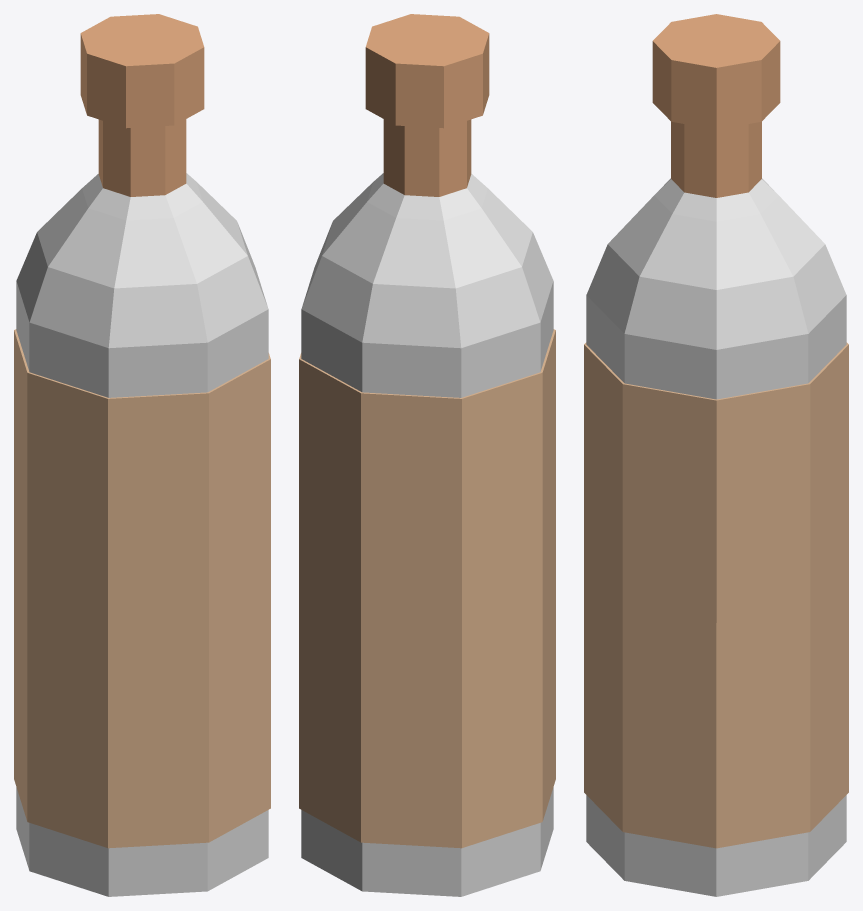
Rendered from Botella_6_2.fbx.
3 views of the same model, side by side, from view 1: azimuth 30°, elevation 25°; view 2: azimuth 150°, elevation 25°; view 3: azimuth 270°, elevation 25° (orthographic).
Visible parts, largest first — view 1: Botella_6_2; view 2: Botella_6_2; view 3: Botella_6_2.
Part boxes in pixels (x1,y1,x2,y2): Botella_6_2: (14, 14, 270, 896); Botella_6_2: (299, 14, 555, 896); Botella_6_2: (584, 14, 848, 896).
Bounding box in the file's own units: 56.46 × 188 × 56.46.
